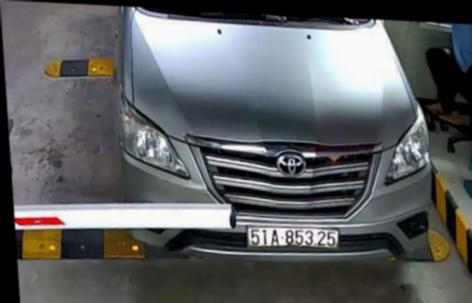License_Plate: (246, 223, 341, 252)
